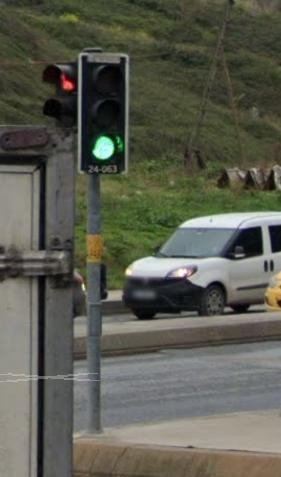greenlight: (82, 55, 119, 166)
